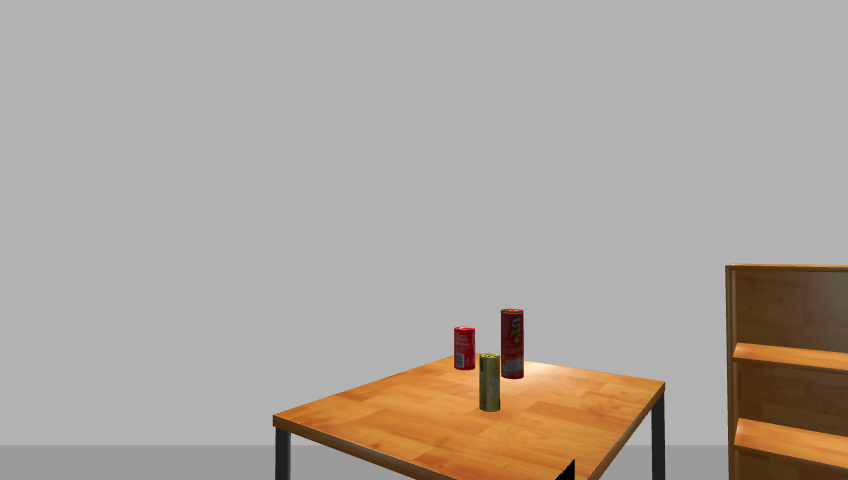aruco marker: (544, 460, 580, 480)
biscuits pack: (478, 353, 502, 413)
bookshelf: (720, 262, 848, 479)
coke can: (452, 326, 477, 371)
dinner table: (265, 356, 676, 480)
pringles can: (499, 308, 526, 381)
